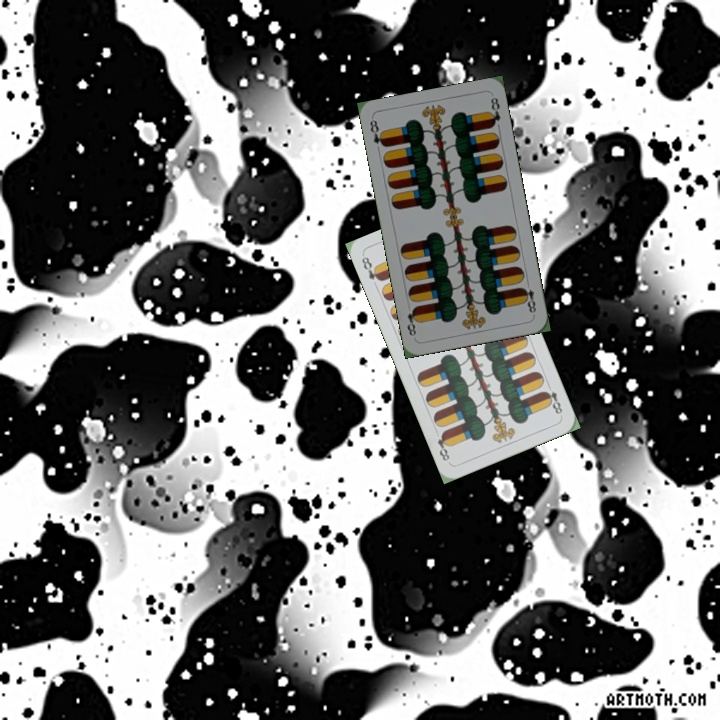E8: (540, 380, 565, 417), (357, 253, 384, 284), (518, 277, 538, 318), (366, 116, 388, 150)
